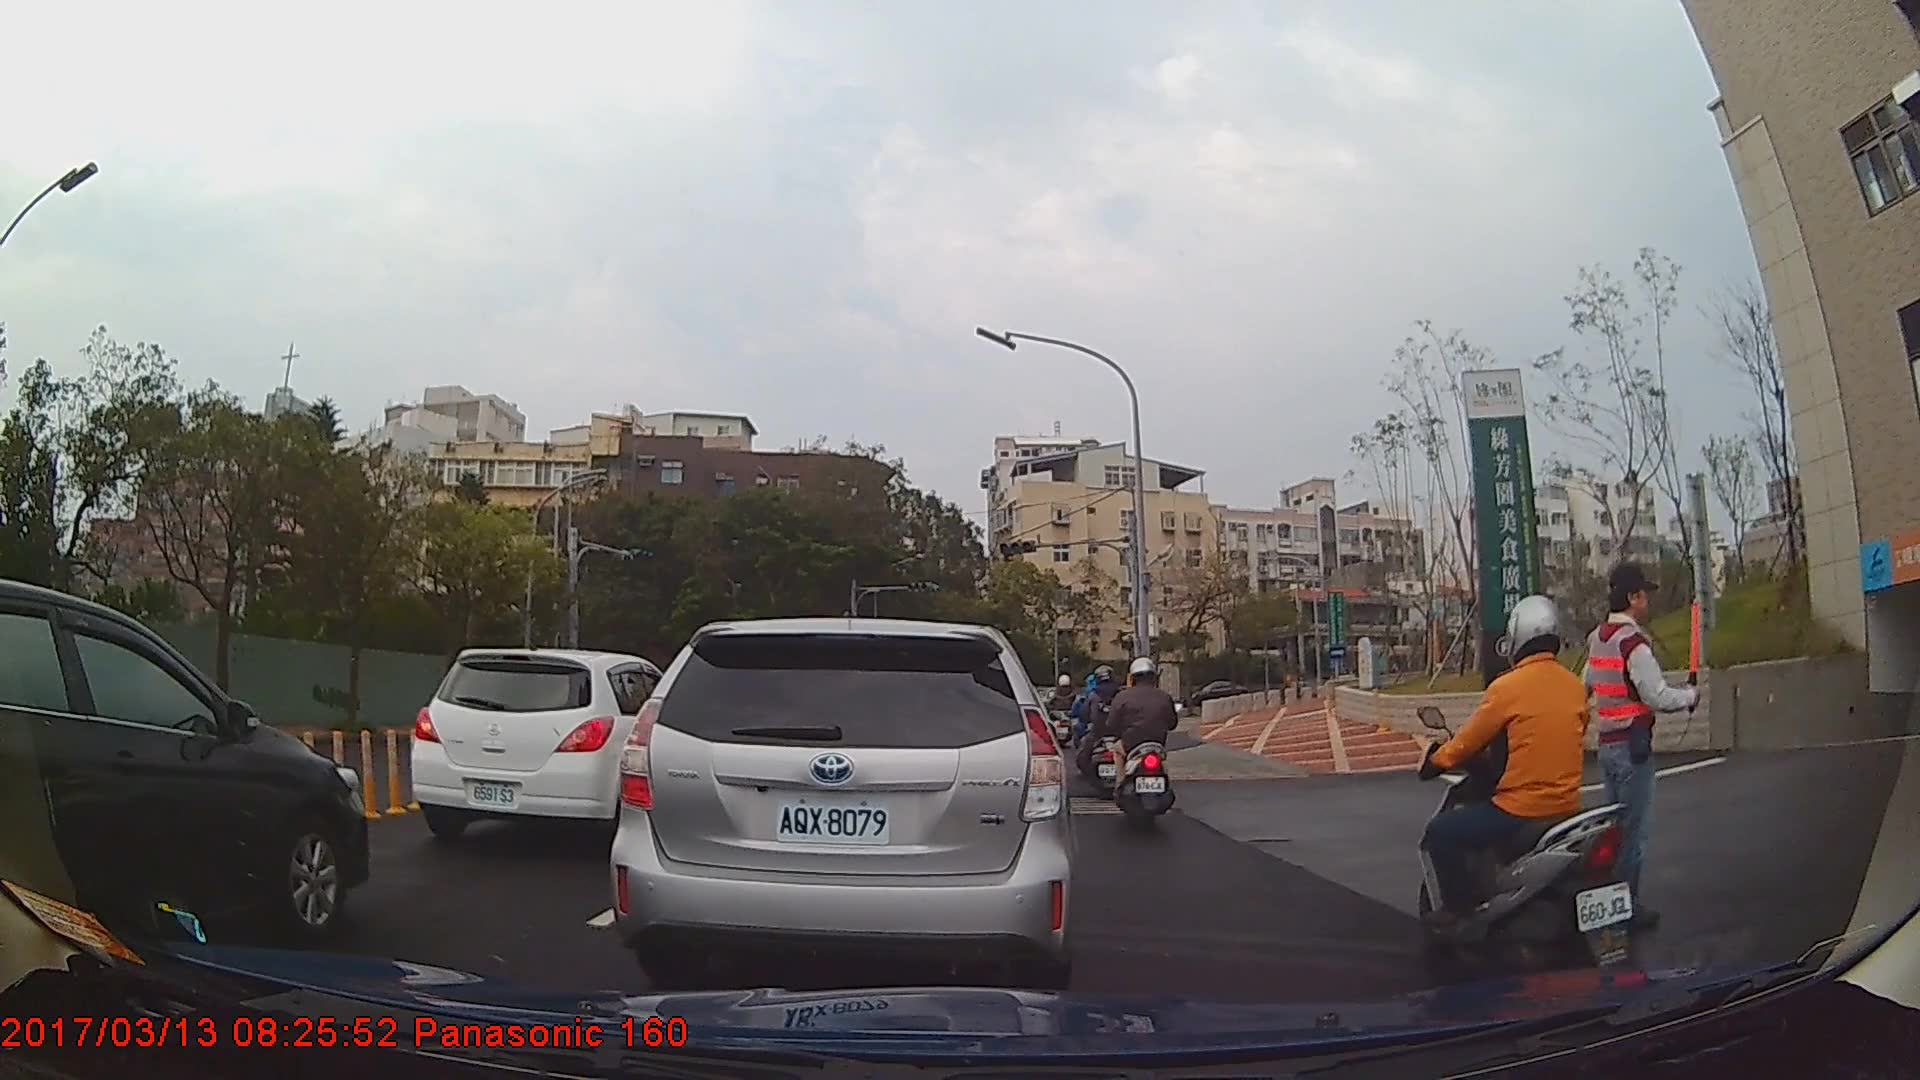pedestrian: (1565, 567, 1705, 929)
rider: (1414, 591, 1637, 990), (1113, 651, 1186, 842), (1079, 665, 1127, 794), (1046, 671, 1076, 753)
vehicle: (610, 618, 1072, 983), (0, 576, 370, 959), (409, 648, 713, 846), (1182, 677, 1250, 710)
